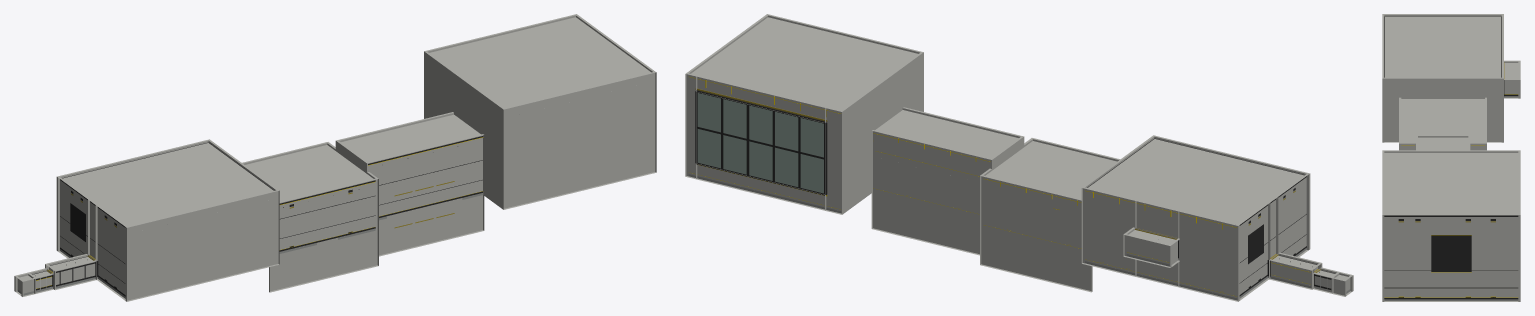
The model's file is facility2.glb.
3 views of the same model, side by side, from view 1: azimuth 30°, elevation 25°; view 2: azimuth 150°, elevation 25°; view 3: azimuth 270°, elevation 25° (orthographic). The views are drawn at different scales.
Visible parts, largest first — view 1: Facility_con, Facility_blk, Facility_flr; view 2: Facility_con, X_Glass, Facility_blk, Facility_yel, Facility_flr, Facility_haz; view 3: Facility_con, Facility_blk, Facility_flr, Facility_yel.
Part boxes in pixels (x1,y1,x2,y2): Facility_con: (14, 14, 656, 301); Facility_blk: (32, 136, 482, 296); Facility_flr: (17, 193, 483, 298); Facility_con: (685, 14, 1353, 301); X_Glass: (697, 93, 823, 193); Facility_blk: (695, 90, 1334, 296); Facility_yel: (689, 76, 1310, 296); Facility_flr: (688, 174, 1350, 300); Facility_haz: (695, 88, 1320, 272); Facility_con: (1382, 14, 1520, 301); Facility_blk: (1384, 16, 1518, 299); Facility_flr: (1384, 96, 1518, 300); Facility_yel: (1384, 94, 1517, 297).
Size of the model in its own units: 144 by 30.9 by 33.
